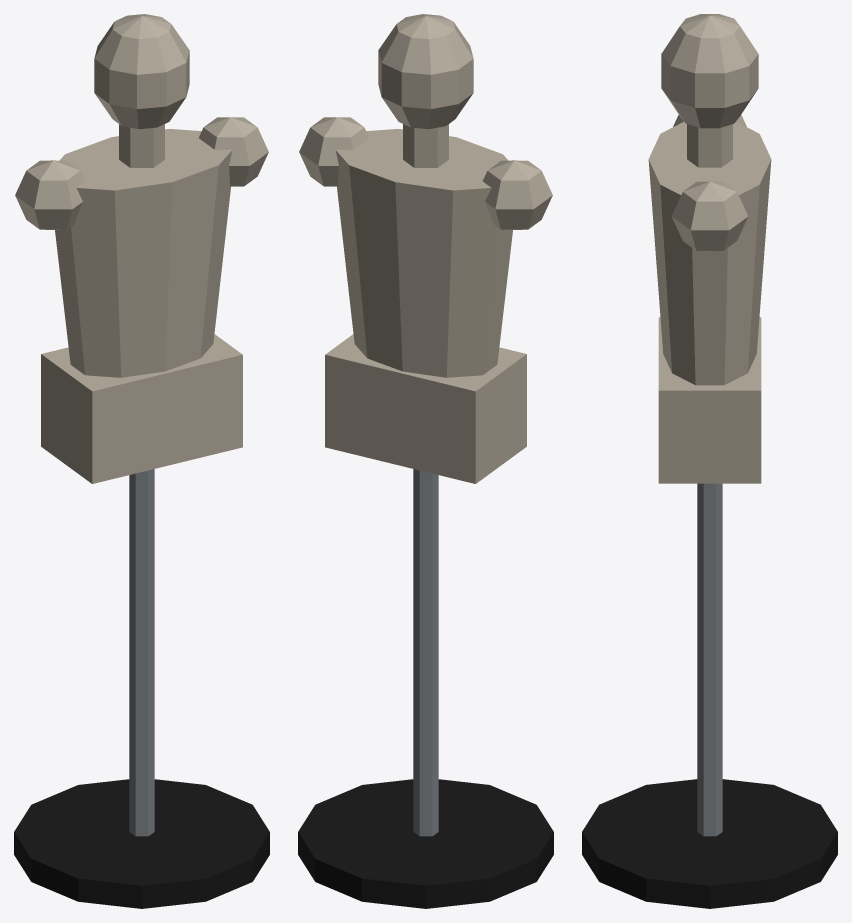
File: mannequin.glb
3 renders of one model, left to right at view 1: azimuth 30°, elevation 25°; view 2: azimuth 150°, elevation 25°; view 3: azimuth 270°, elevation 25°, orthographic.
Visible parts, largest first — view 1: mannequin; view 2: mannequin; view 3: mannequin.
Boxes of the visible parts, x1,y1,x2,y2 form: mannequin: (14,14,269,908); mannequin: (298,14,553,908); mannequin: (582,14,837,908).
Bounding box in the file's own units: 0.5299 × 1.81 × 0.5.
